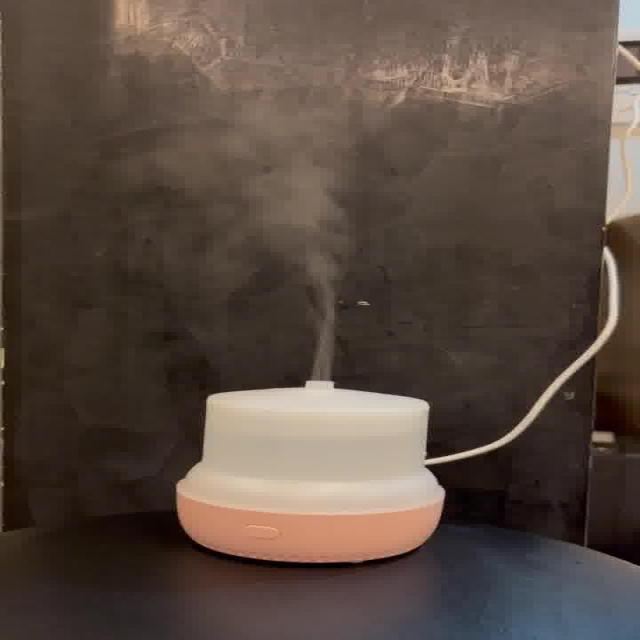fire: (204, 112, 366, 378)
